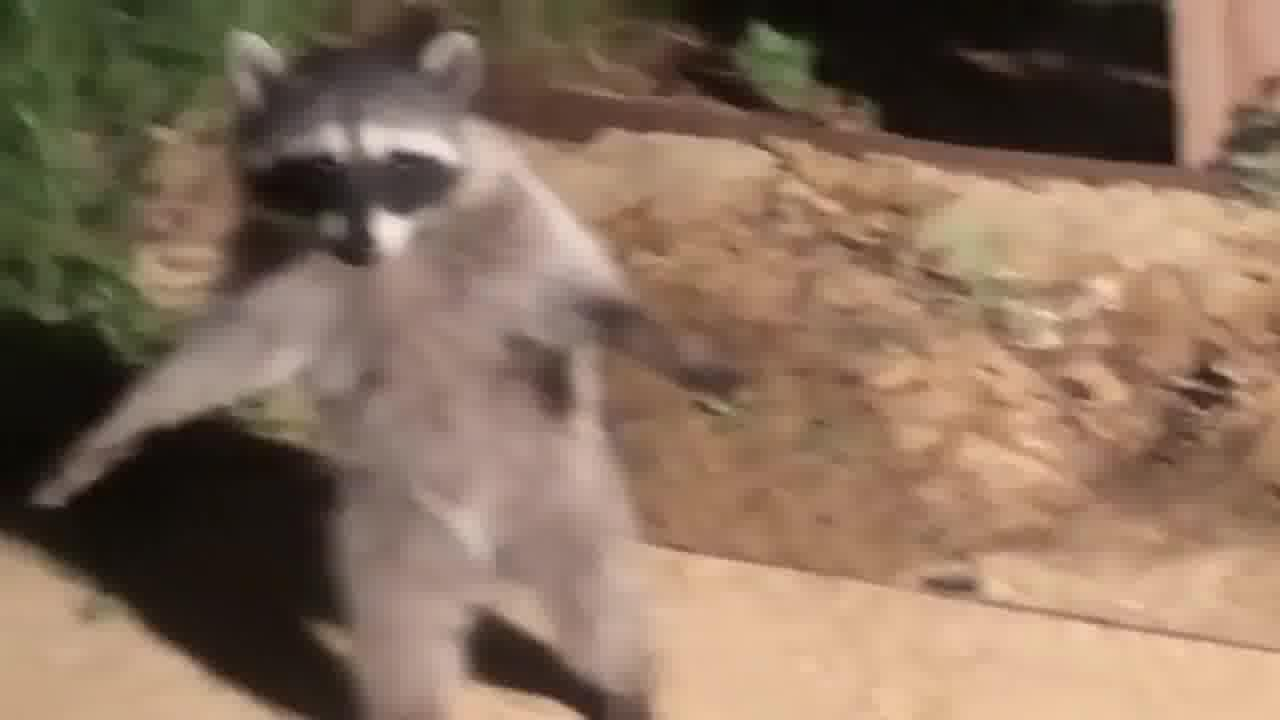raccoon: (22, 27, 759, 720)
